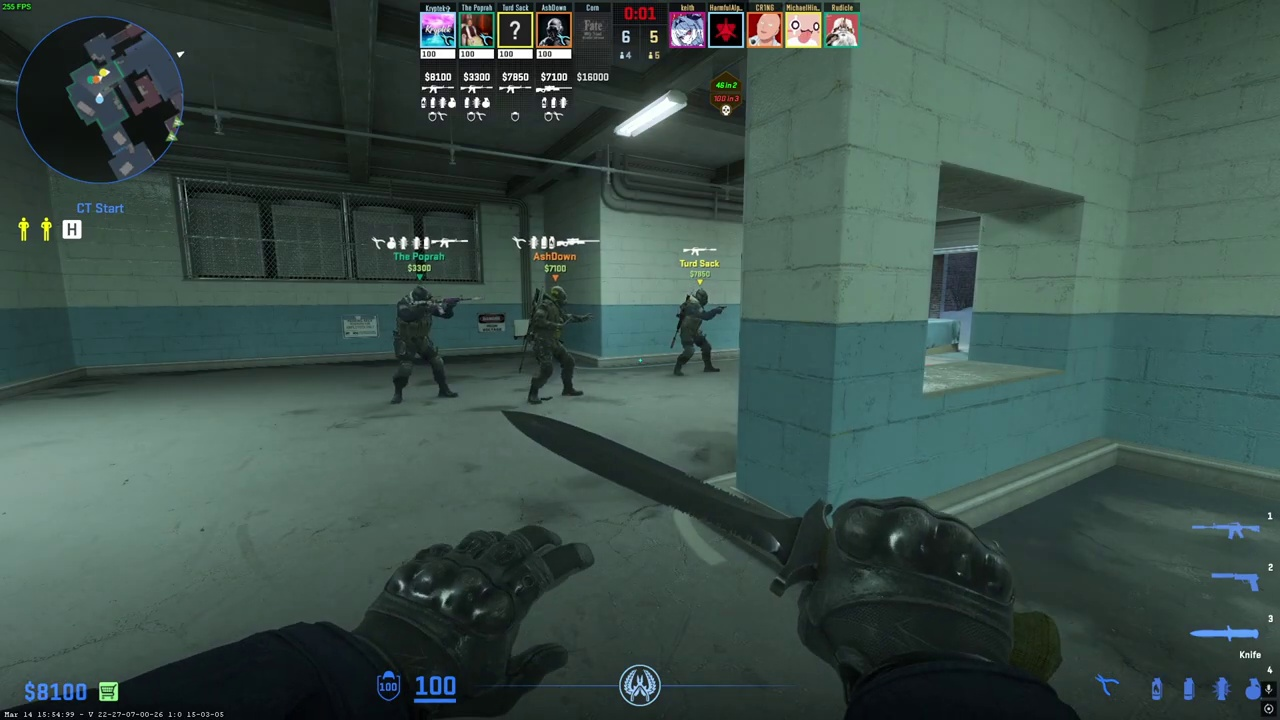CT: (389, 286, 452, 403), (526, 285, 580, 404), (675, 289, 719, 376)
